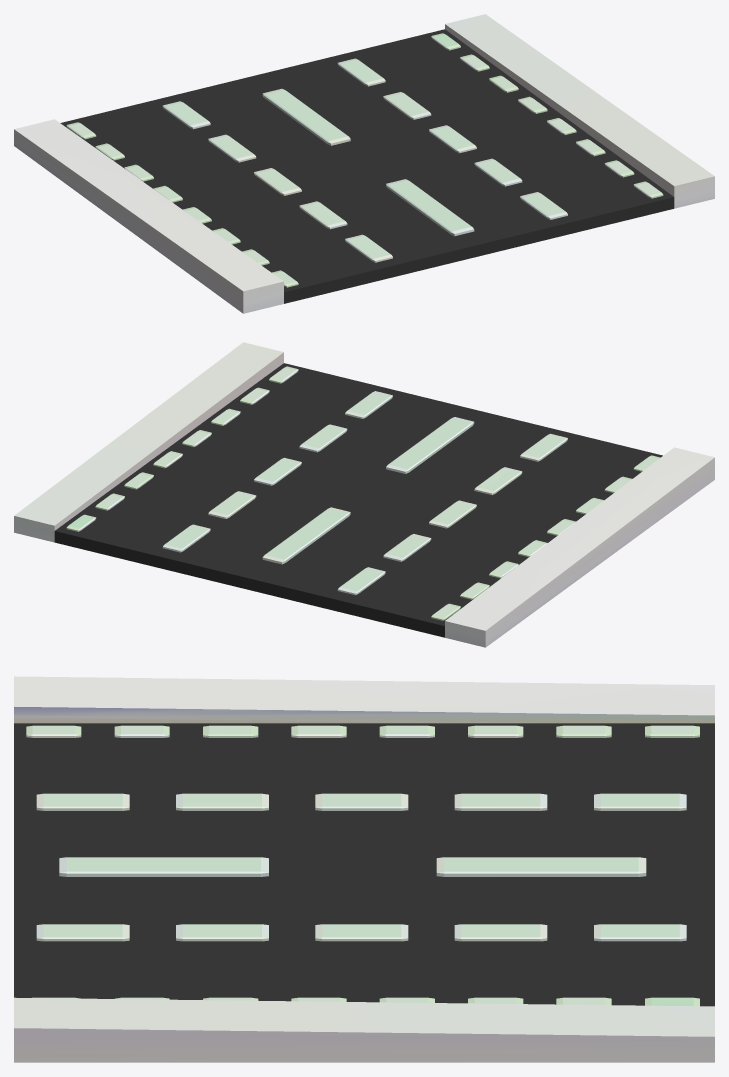
The model's file is STA_Project_Road_1_V1.fbx.
3 views of the same model, one above another, from view 1: azimuth 30°, elevation 25°; view 2: azimuth 150°, elevation 25°; view 3: azimuth 270°, elevation 25° (orthographic). The views are drawn at different scales.
Parts seen in each view (by area): view 1: Roads; view 2: Roads; view 3: Roads.
Boxes of the visible parts, x1,y1,x2,y2 form: Roads: (14,14,714,313); Roads: (14,342,714,647); Roads: (14,676,714,1062).
Bounding box in the file's own units: 1192 × 54.31 × 1004.
